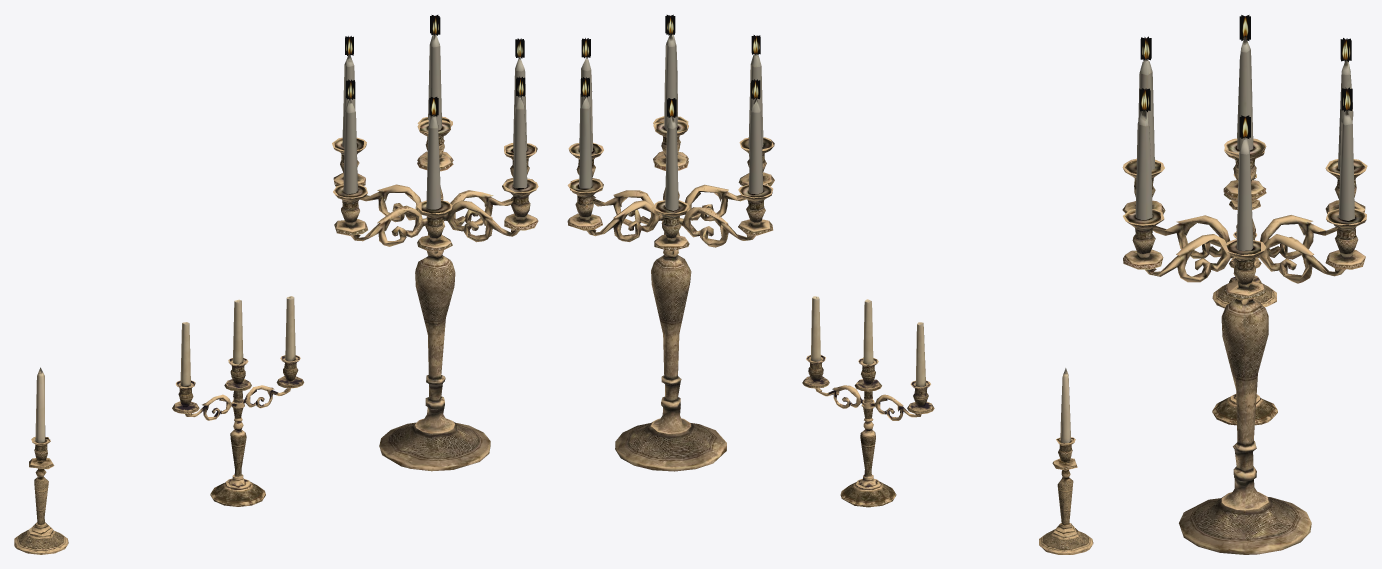
Rendered from brass_candleholders.glb.
The picture shows the model from 3 angles, left to right: view 1: azimuth 30°, elevation 25°; view 2: azimuth 150°, elevation 25°; view 3: azimuth 270°, elevation 25°; orthographic projection. The views are drawn at different scales.
Visible parts, largest first — view 1: brass_candleholder_03, brass_candleholder_02, brass_candleholder_01; view 2: brass_candleholder_03, brass_candleholder_02, brass_candleholder_01; view 3: brass_candleholder_03, brass_candleholder_02, brass_candleholder_01.
Boxes of the visible parts, x1=… form: brass_candleholder_03: x1=332, y1=15, x2=538, y2=471; brass_candleholder_02: x1=172, y1=296, x2=304, y2=506; brass_candleholder_01: x1=14, y1=367, x2=68, y2=554; brass_candleholder_03: x1=567, y1=14, x2=774, y2=471; brass_candleholder_02: x1=802, y1=296, x2=934, y2=507; brass_candleholder_01: x1=1039, y1=368, x2=1093, y2=554; brass_candleholder_03: x1=1122, y1=15, x2=1367, y2=554; brass_candleholder_02: x1=1212, y1=232, x2=1277, y2=425; brass_candleholder_01: x1=1212, y1=174, x2=1276, y2=308.
Bounding box in the file's own units: 1.05 × 0.8353 × 0.3637.
5 materials, 5 textured.
